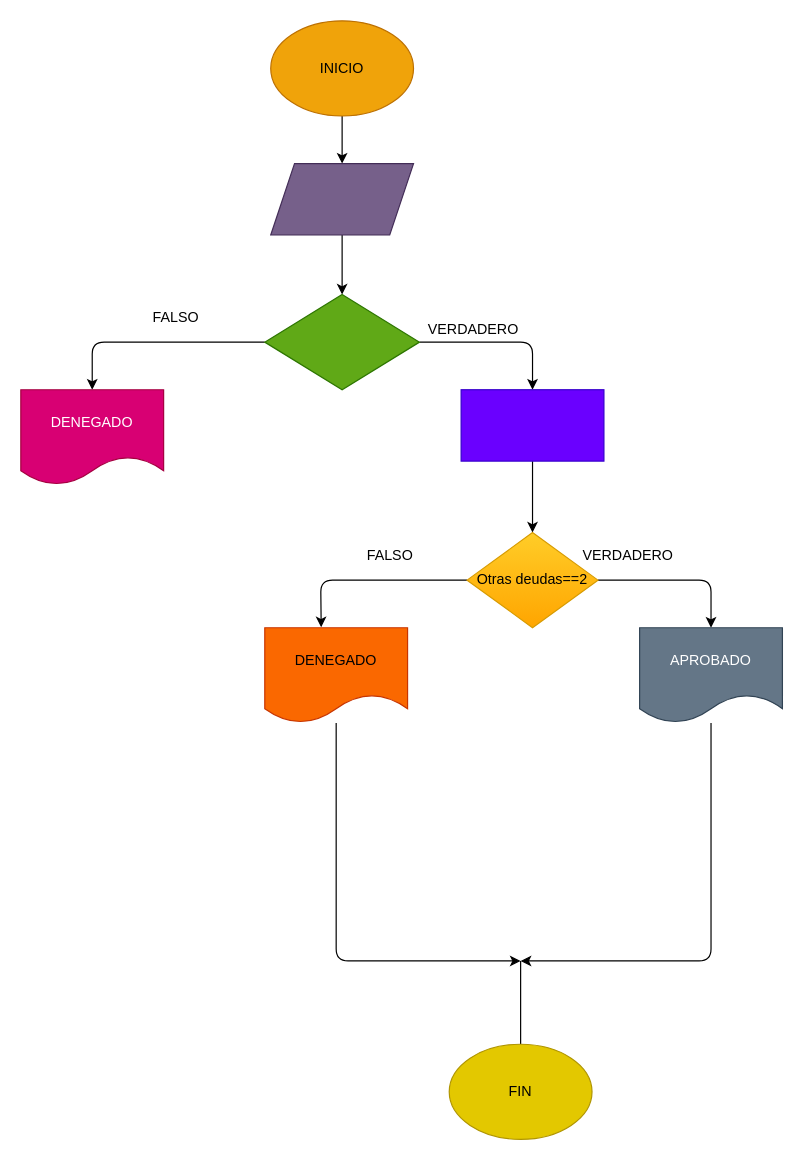
The diagram is 803 pixels wide and 1160 high, and some of its shapes have lost their labels. The centre of each missing label's shape, as x and y in pixels:
"INGRESOS" goes at [342,198].
"ingresos > 945200" goes at [341,341].
"OTRAS DEUDAS" goes at [532,425].
